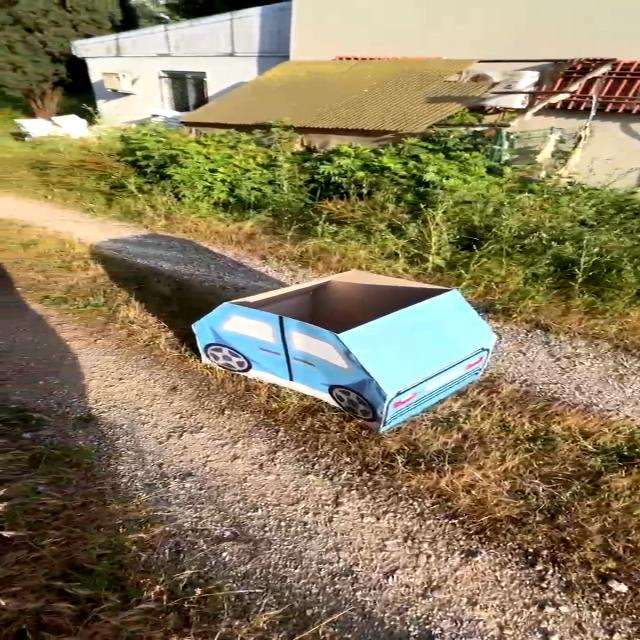blue_car: (138, 261, 555, 442)
